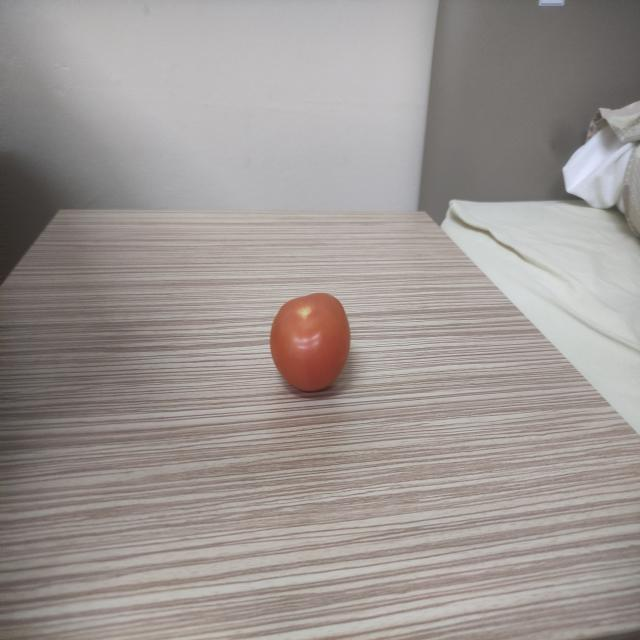sari: (267, 269, 359, 402)
